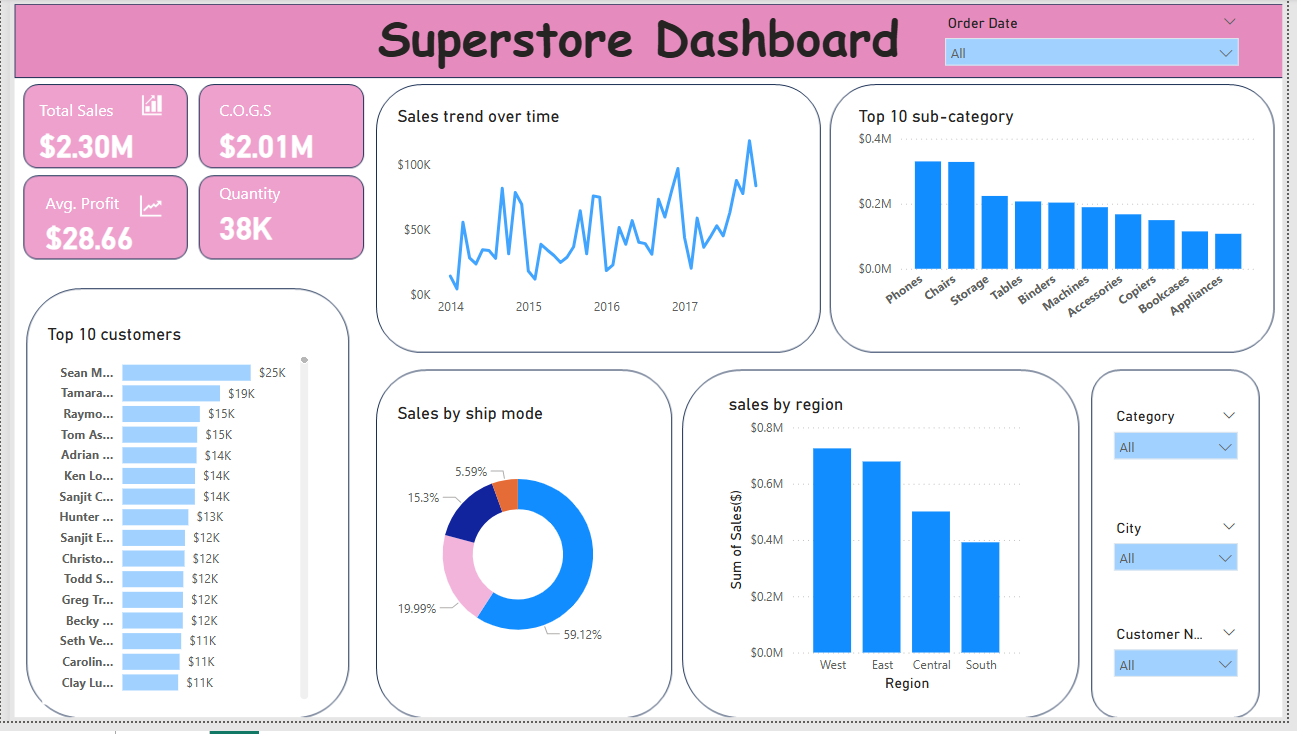

Layout of this report page (visuals, bound fields, positions):
{"tool":"powerbi","page":{"name":"Page 1","canvas":[1280,720],"ordinal":0},"visuals":[{"type":"image","box":[8.9,0,1271.7,719.3],"z":0},{"type":"cardVisual","fields":{"Data":["Sample - Superstore.Sales($)"]},"box":[21.3,83.5,135,81.7],"z":1000},{"type":"image","box":[113.7,87,55.1,37.3],"z":2000},{"type":"cardVisual","fields":{"Data":["Sample - Superstore.Avg. Profit"]},"box":[21.3,165.2,147.4,81.7],"z":3000},{"type":"cardVisual","fields":{"Data":["Sample - Superstore.C.O.G.S"]},"box":[200.7,83.5,135,81.7],"z":4000},{"type":"cardVisual","fields":{"Data":["Sample - Superstore.Quantity"]},"box":[200.7,165.2,135,81.7],"z":5000},{"type":"image","box":[129.7,186.5,39.1,40.9],"z":6000},{"type":"textbox","box":[200.7,0,868.5,87],"z":7000},{"type":"lineChart","title":"Sales trend over time","fields":{"Y":["Sample - Superstore.Sales($)"],"Category":["Sample - Superstore.Order Date.Variation.Date Hierarchy.Year","Sample - Superstore.Order Date.Variation.Date Hierarchy.Quarter","Sample - Superstore.Order Date.Variation.Date Hierarchy.Month"]},"box":[389,106.6,380.1,218.5],"z":8000},{"type":"barChart","title":"Top 10 customers","fields":{"Category":["Sample - Superstore.Customer Name"],"Y":["Sample - Superstore.Sales($)"]},"box":[40.9,325,270,378.3],"z":9000},{"type":"columnChart","title":"Top 10 sub-category","fields":{"Category":["Sample - Superstore.Sub-Category"],"Y":["Sample - Superstore.Sales($)"]},"box":[849,106.6,405,232.7],"z":10000},{"type":"filledMap","fields":{"Category":["Sample - Superstore.City"],"Series":["Sample - Superstore.State"]},"box":[696.2,403.2,342.8,300.2],"z":11000},{"type":"donutChart","title":"Sales by ship mode","fields":{"Category":["Sample - Superstore.Ship Mode"],"Y":["Sample - Superstore.Sales($)"]},"box":[389,403.2,250.4,282.4],"z":12000},{"type":"slicer","fields":{"Values":["Sample - Superstore.Category"]},"box":[1097.7,403.2,143.9,65.7],"z":13000},{"type":"slicer","fields":{"Values":["Sample - Superstore.City"]},"box":[1097.7,513.3,143.9,65.7],"z":14000},{"type":"slicer","fields":{"Values":["Sample - Superstore.Customer Name"]},"box":[1097.7,619.9,143.9,65.7],"z":15000},{"type":"slicer","fields":{"Values":["Sample - Superstore.Order Date"]},"box":[928.9,10.7,312.6,65.7],"z":16000}]}

Visuals, with their boxes in screenshot pixels (x1, y1, x2, y2), scaled from the page's 1280x720 canvas onto the 1297x734 screenshot:
image: rect(9, 0, 1296, 733)
cardVisual - Sample - Superstore.Sales($): rect(22, 85, 158, 168)
image: rect(115, 89, 171, 127)
cardVisual - Sample - Superstore.Avg. Profit: rect(22, 168, 171, 252)
cardVisual - Sample - Superstore.C.O.G.S: rect(203, 85, 340, 168)
cardVisual - Sample - Superstore.Quantity: rect(203, 168, 340, 252)
image: rect(131, 190, 171, 232)
textbox: rect(203, 0, 1083, 89)
"Sales trend over time" lineChart: rect(394, 109, 779, 331)
"Top 10 customers" barChart: rect(41, 331, 315, 717)
"Top 10 sub-category" columnChart: rect(860, 109, 1271, 346)
filledMap - Sample - Superstore.City x Sample - Superstore.State: rect(705, 411, 1053, 717)
"Sales by ship mode" donutChart: rect(394, 411, 648, 699)
slicer - Sample - Superstore.Category: rect(1112, 411, 1258, 478)
slicer - Sample - Superstore.City: rect(1112, 523, 1258, 590)
slicer - Sample - Superstore.Customer Name: rect(1112, 632, 1258, 699)
slicer - Sample - Superstore.Order Date: rect(941, 11, 1258, 78)
